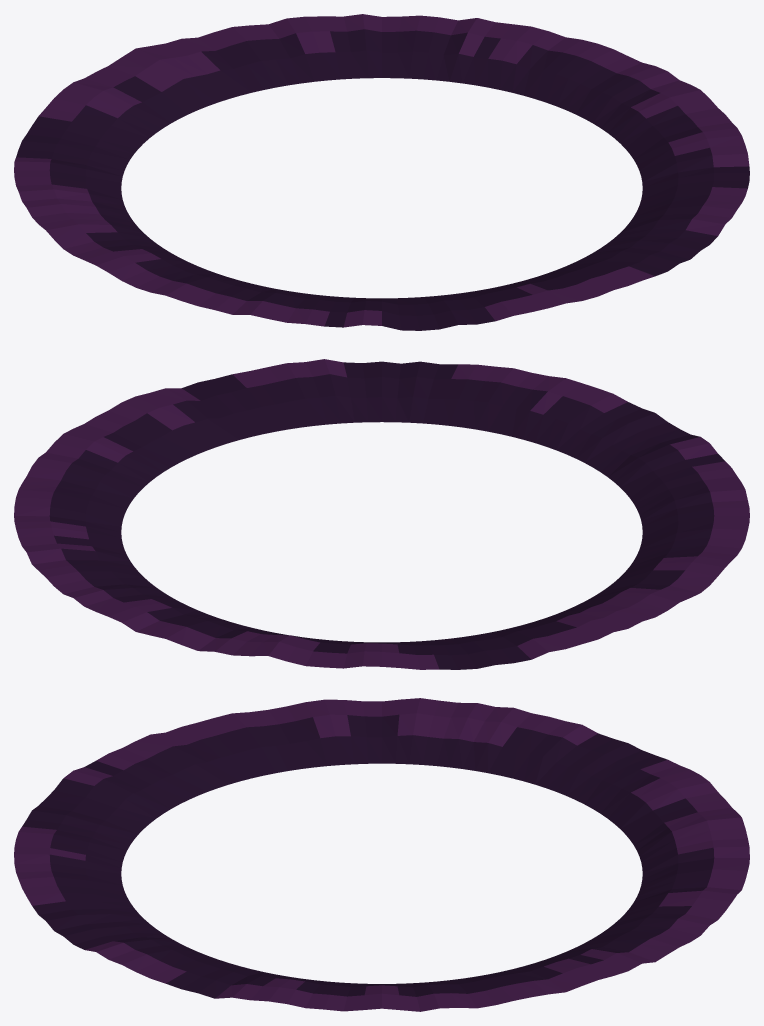
Rendered from W4_Ground_HorizonRing.fbx.
3 renders of one model, top to bottom at view 1: azimuth 30°, elevation 25°; view 2: azimuth 150°, elevation 25°; view 3: azimuth 270°, elevation 25°, orthographic.
Visible parts, largest first — view 1: W4_Ground_HorizonRing; view 2: W4_Ground_HorizonRing; view 3: W4_Ground_HorizonRing.
Boxes of the visible parts, left/top/right/bottom form: W4_Ground_HorizonRing: left=14, top=14, right=749, bottom=330; W4_Ground_HorizonRing: left=14, top=359, right=749, bottom=669; W4_Ground_HorizonRing: left=14, top=698, right=749, bottom=1011.
Size of the model in its own units: 4800 by 174 by 4800.
